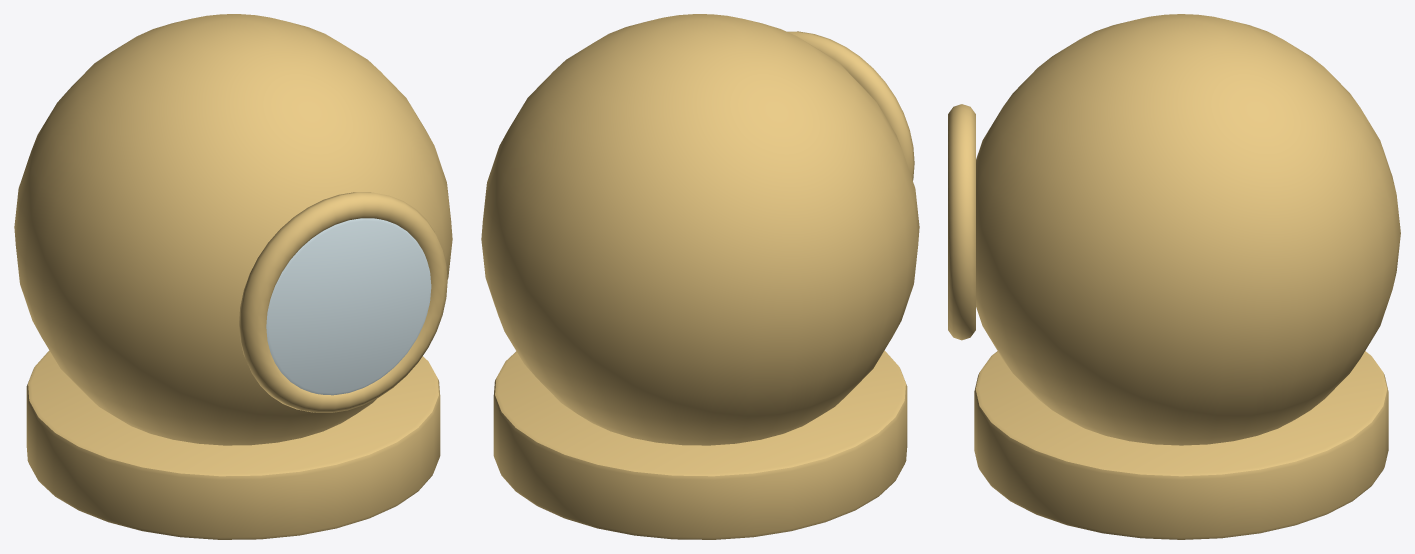
File: helmet.glb
3 renders of one model, left to right at view 1: azimuth 30°, elevation 25°; view 2: azimuth 150°, elevation 25°; view 3: azimuth 270°, elevation 25°, orthographic.
Parts seen in each view (by area): view 1: helm, collar, front, rim; view 2: helm, collar, rim; view 3: helm, collar, rim.
Boxes of the visible parts, left/top/right/bottom form: helm: left=14, top=14, right=452, bottom=445; collar: left=26, top=350, right=440, bottom=539; front: left=266, top=218, right=431, bottom=395; rim: left=239, top=192, right=447, bottom=412; helm: left=481, top=14, right=919, bottom=445; collar: left=493, top=350, right=907, bottom=539; rim: left=787, top=31, right=914, bottom=180; helm: left=976, top=14, right=1400, bottom=445; collar: left=974, top=351, right=1388, bottom=539; rim: left=948, top=104, right=975, bottom=340.
Bounding box in the file's own units: 0.36 × 0.38 × 0.3714.
